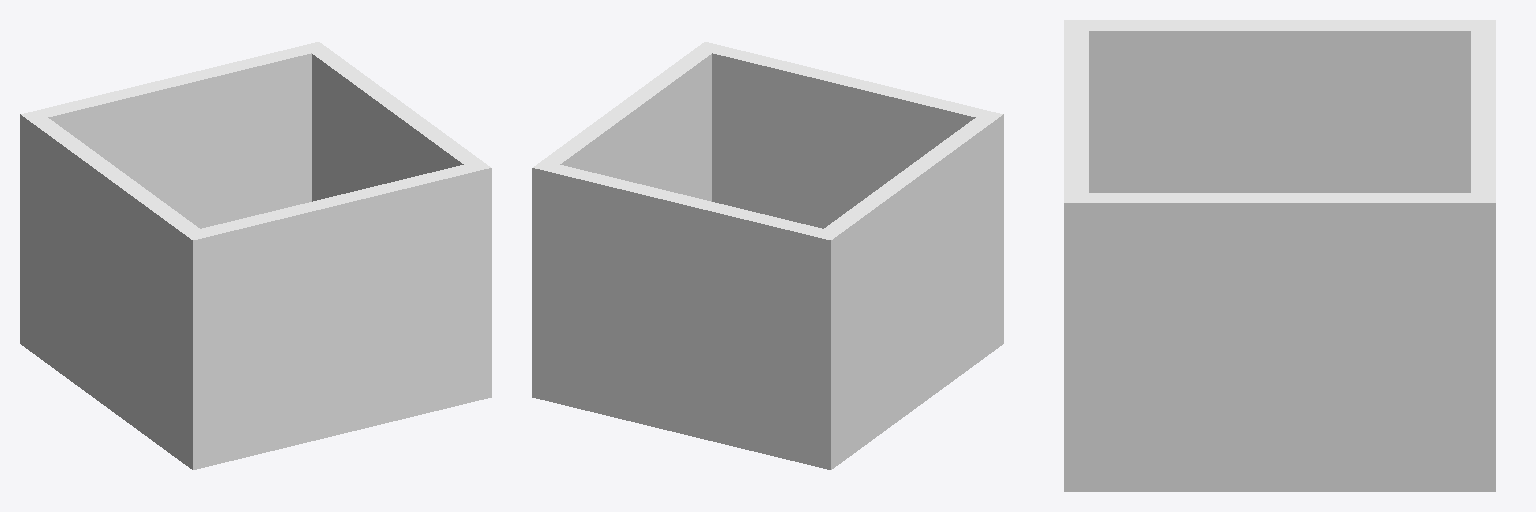
URDF robot description (box_light):
<?xml version="1.0"?>
<robot name="box_light">
  
  <!-- Bottom of the box -->
  <link name="box_bottom">
    <visual>
      <geometry>
        <box size="0.3 0.3 0.02"/>  <!-- 30cm x 30cm, 2cm thick -->
      </geometry>
      <origin xyz="0 0 0.01"/>
      <material name="gray">
        <color rgba="1 1 1 1"/>
      </material>
    </visual>
    
    <collision>
      <geometry>
        <box size="0.3 0.3 0.02"/>  <!-- 30cm x 30cm collision box -->
      </geometry>
      <origin xyz="0 0 0.01"/>
    </collision>
  </link>

  <!-- Walls of the box -->

  <!-- Front Wall -->
  <link name="box_wall_front">
    <visual>
      <geometry>
        <box size="0.3 0.02 0.25"/>  <!-- Wall thickness 2cm, 30cm height -->
      </geometry>
      <origin xyz="0 0.16 0.125"/>
      <material name="gray">
        <color rgba="1 1 1 1"/>
      </material>
    </visual>
    
    <collision>
      <geometry>
        <box size="0.3 0.02 0.25"/>  <!-- Wall thickness 2cm, 30cm height -->
      </geometry>
      <origin xyz="0 0.16 0.125"/>
    </collision>
  </link>

  <!-- Back Wall -->
  <link name="box_wall_back">
    <visual>
      <geometry>
        <box size="0.3 0.02 0.25"/>
      </geometry>
      <origin xyz="0 -0.16 0.125"/>
      <material name="gray">
        <color rgba="1 1 1 1"/>
      </material>
    </visual>
    
    <collision>
      <geometry>
        <box size="0.3 0.02 0.25"/>
      </geometry>
      <origin xyz="0 -0.16 0.125"/>
    </collision>
  </link>

  <!-- Left Wall -->
  <link name="box_wall_left">
    <visual>
      <geometry>
        <box size="0.02 0.34 0.25"/>  <!-- 2cm thick, 30cm height -->
      </geometry>
      <origin xyz="-0.16 0 0.125"/>
      <material name="gray">
        <color rgba="1 1 1 1"/>
      </material>
    </visual>
    
    <collision>
      <geometry>
        <box size="0.02 0.34 0.25"/>
      </geometry>
      <origin xyz="-0.16 0 0.125"/>
    </collision>
  </link>

  <!-- Right Wall -->
  <link name="box_wall_right">
    <visual>
      <geometry>
        <box size="0.02 0.34 0.25"/>
      </geometry>
      <origin xyz="0.16 0 0.125"/>
      <material name="gray">
        <color rgba="1 1 1 1"/>
      </material>
    </visual>
    
    <collision>
      <geometry>
        <box size="0.02 0.34 0.25"/>
      </geometry>
      <origin xyz="0.16 0 0.125"/>
    </collision>
  </link>

  <!-- Trigger collider on the bottom (for detection) -->


  <!-- Fixed Joints -->
  <joint name="joint_bottom_front" type="fixed">
    <parent link="box_bottom"/>
    <child link="box_wall_front"/>
    <origin xyz="0 0 0"/>
  </joint>

  <joint name="joint_bottom_back" type="fixed">
    <parent link="box_bottom"/>
    <child link="box_wall_back"/>
    <origin xyz="0 0 0"/>
  </joint>

  <joint name="joint_bottom_left" type="fixed">
    <parent link="box_bottom"/>
    <child link="box_wall_left"/>
    <origin xyz="0 0 0"/>
  </joint>

  <joint name="joint_bottom_right" type="fixed">
    <parent link="box_bottom"/>
    <child link="box_wall_right"/>
    <origin xyz="0 0 0"/>
  </joint>

</robot>

--- What the picture shows (computed from the rendered views, not written in the file) ---
The picture shows the robot from 3 angles, left to right: view 1: azimuth 30°, elevation 25°; view 2: azimuth 150°, elevation 25°; view 3: azimuth 270°, elevation 25°; orthographic projection.
Robot: box_light — 5 links, 4 joints (4 fixed); root link box_bottom; default pose: every joint at zero.
Links seen in each view (by area): view 1: box_wall_back, box_wall_left, box_wall_front, box_wall_right; view 2: box_wall_front, box_wall_left, box_wall_back, box_wall_right; view 3: box_wall_right, box_wall_left, box_wall_front, box_wall_back.
Link boxes in pixels (box(x1,y1,x2,y2)): box_wall_back: box(201, 165, 473, 465); box_wall_left: box(20, 110, 209, 469); box_wall_front: box(39, 46, 311, 228); box_wall_right: box(302, 42, 491, 401); box_wall_front: box(550, 165, 822, 465); box_wall_left: box(814, 110, 1003, 469); box_wall_back: box(712, 46, 984, 228); box_wall_right: box(532, 42, 721, 401); box_wall_right: box(1064, 193, 1495, 491); box_wall_left: box(1064, 20, 1495, 192); box_wall_front: box(1471, 31, 1495, 192); box_wall_back: box(1064, 31, 1088, 192).
Bounding box of the posed robot: 0.34 × 0.34 × 0.25 m (x, y, z).
Geometry: primitives only (box / cylinder / sphere), no mesh files.
